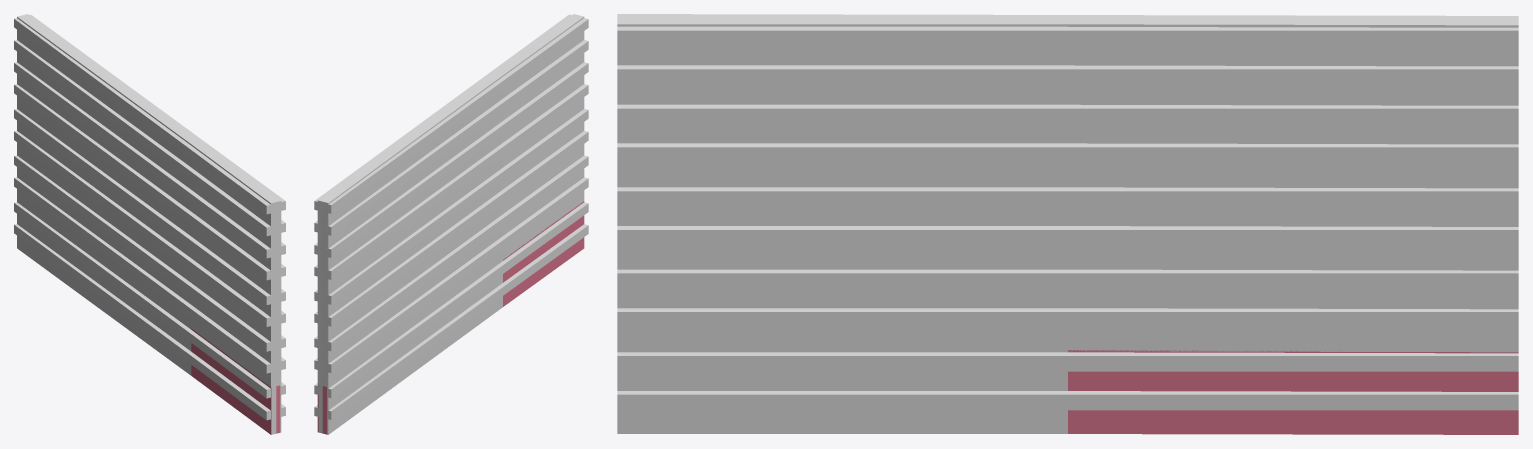
File: シェルター.fbx
3 views of the same model, side by side, from view 1: azimuth 30°, elevation 25°; view 2: azimuth 150°, elevation 25°; view 3: azimuth 270°, elevation 25° (orthographic). The views are drawn at different scales.
Parts seen in each view (by area): view 1: Cube.004; view 2: Cube.004; view 3: Cube.004.
Part boxes in pixels (box(x1,y1,x2,y2)): Cube.004: box(14, 14, 285, 434); Cube.004: box(314, 14, 588, 434); Cube.004: box(617, 14, 1518, 434).
Bounding box in the file's own units: 84.82 × 974 × 1942.
